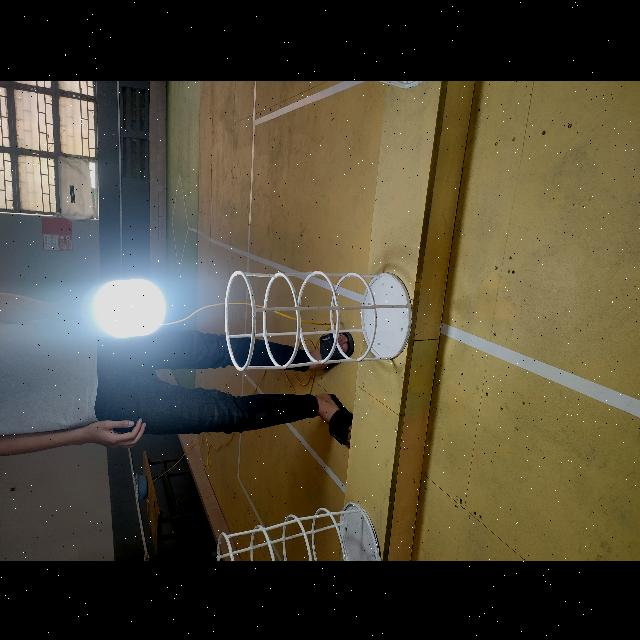S: (224, 266, 412, 372), (217, 500, 383, 560)
